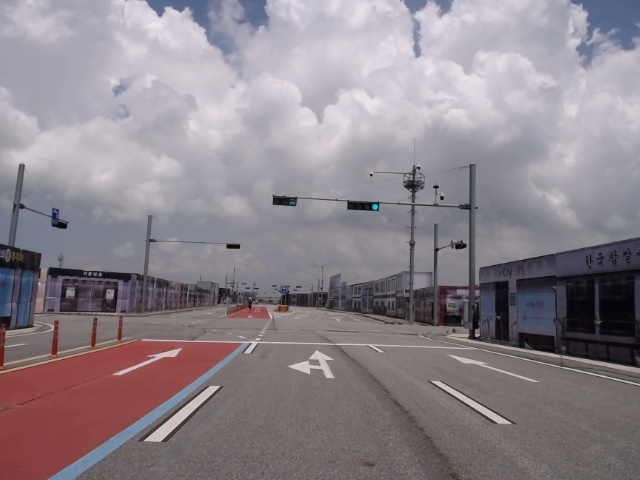straight_green_4: (347, 201, 381, 211)
